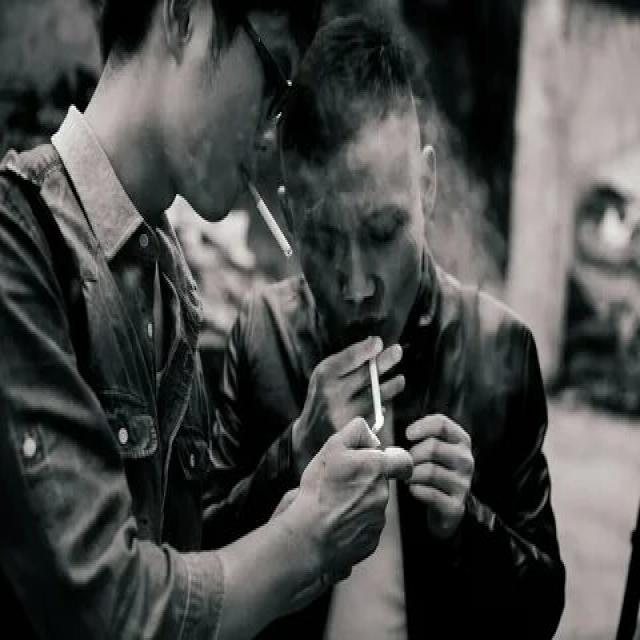smoke: (241, 168, 295, 262), (360, 348, 391, 430)
